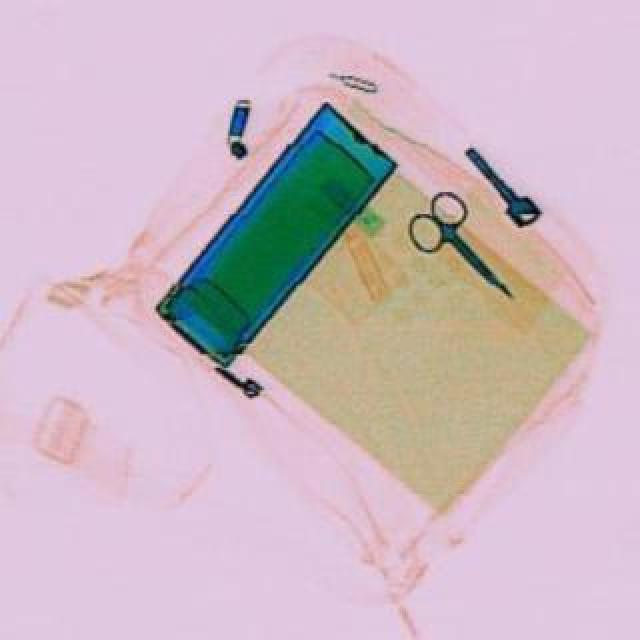pliers: (394, 182, 536, 314)
